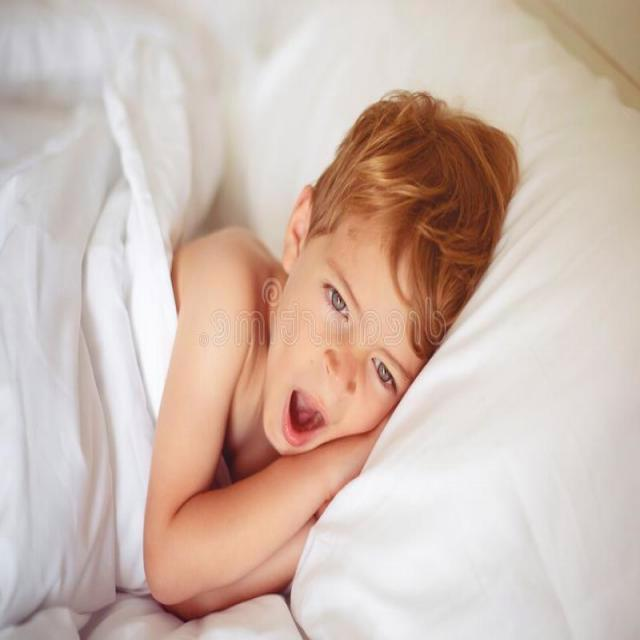child: (136, 77, 525, 623)
